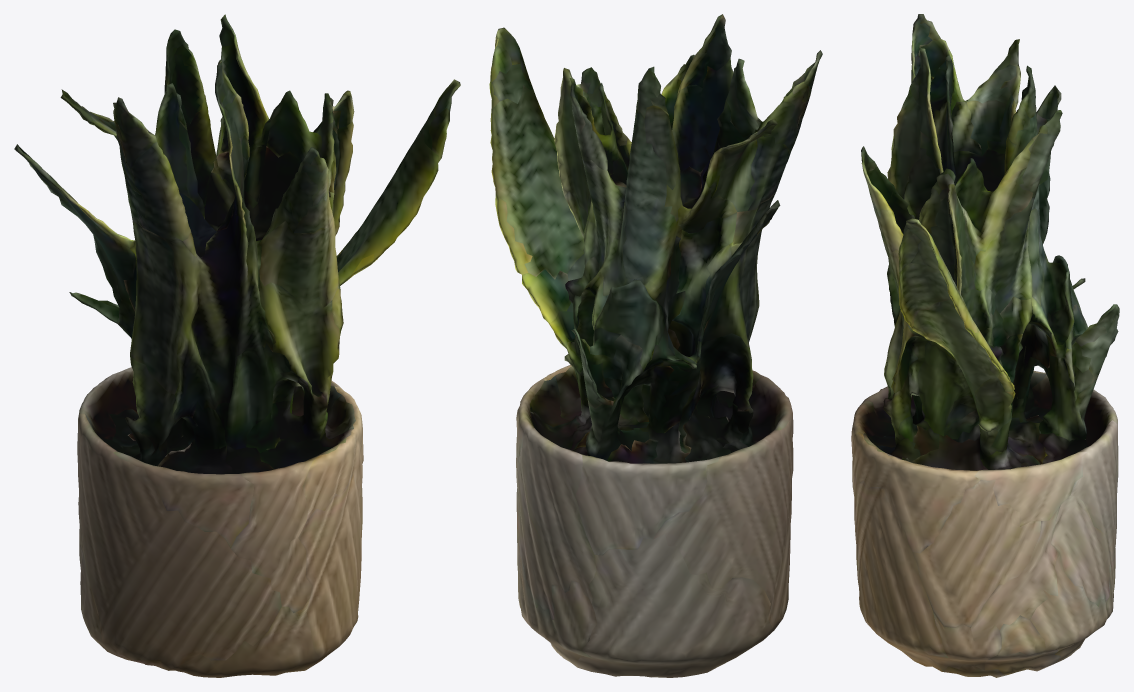
The model's file is plant-snake.glb.
3 renders of one model, left to right at view 1: azimuth 30°, elevation 25°; view 2: azimuth 150°, elevation 25°; view 3: azimuth 270°, elevation 25°, orthographic. The views are drawn at different scales.
Visible parts, largest first — view 1: ObjectCapture; view 2: ObjectCapture; view 3: ObjectCapture.
Part boxes in pixels (x1,y1,x2,y2): ObjectCapture: (14,14,460,677); ObjectCapture: (489,14,822,677); ObjectCapture: (851,14,1119,677).
Size of the model in its own units: 0.4279 by 0.7 by 0.2953.
Materials: 1 (1 with a texture image).
